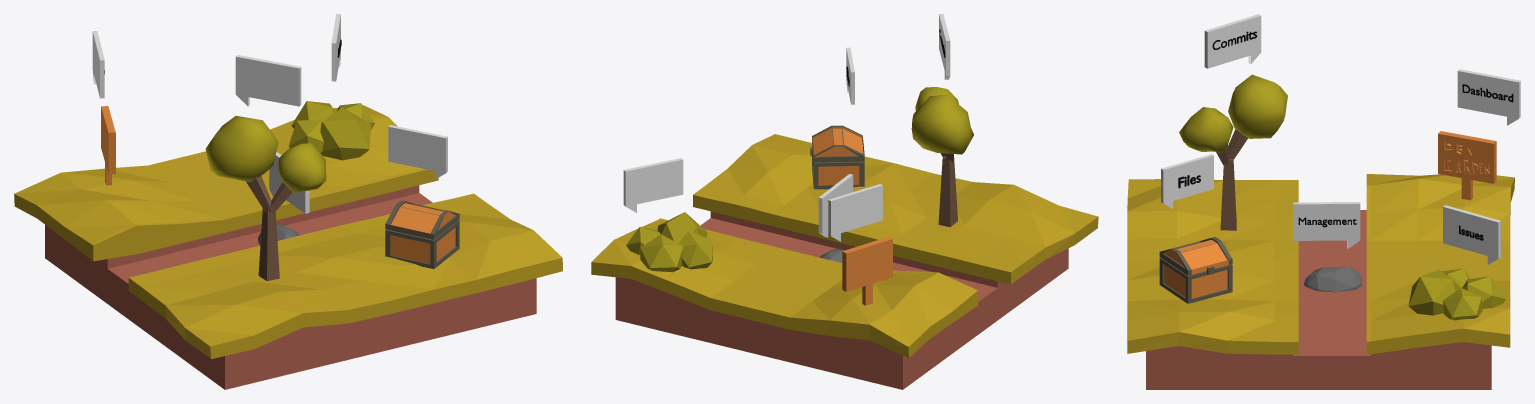
Rendered from terrain2.glb.
3 renders of one model, left to right at view 1: azimuth 30°, elevation 25°; view 2: azimuth 150°, elevation 25°; view 3: azimuth 270°, elevation 25°, orthographic. The views are drawn at different scales.
Visible parts, largest first — view 1: GrassObject, TerrainObject, FeuillageObject, Chest, Icosphere.008_0, SpeechArbre, SpeechChest, TroncObject, PlaqueObject, SpeechRock, SpeechPlaque, SpeechArbustre; view 2: GrassObject, TerrainObject, Icosphere.008_0, FeuillageObject, Chest, SpeechArbustre, PlaqueObject, SpeechPlaque, TroncObject, SpeechRock, SpeechArbre; view 3: GrassObject, TerrainObject, FeuillageObject, Chest, Icosphere.008_0, SpeechRock, PlaqueObject, SpeechPlaque, SpeechArbustre, SpeechArbre, SpeechChest, TroncObject (+1 smaller).
Part boxes in pixels (x1,y1,x2,y2): GrassObject: (14,105,562,359); TerrainObject: (45,185,536,389); FeuillageObject: (205,116,326,193); Chest: (385,200,459,268); Icosphere.008_0: (288,101,374,160); SpeechArbre: (235,55,301,106); SpeechChest: (388,125,447,179); TroncObject: (246,176,292,281); PlaqueObject: (101,106,115,174); SpeechRock: (269,152,309,213); SpeechPlaque: (92,31,104,98); SpeechArbustre: (331,14,340,81); GrassObject: (591,134,1098,357); TerrainObject: (615,211,1068,389); Icosphere.008_0: (626,212,712,272); FeuillageObject: (911,87,973,154); Chest: (810,125,864,189); SpeechArbustre: (623,158,683,212); PlaqueObject: (842,236,892,291); SpeechPlaque: (828,184,882,241); TroncObject: (938,153,957,227); SpeechRock: (818,174,853,237); SpeechArbre: (939,14,950,79); GrassObject: (1127,174,1514,354); TerrainObject: (1146,210,1491,389); FeuillageObject: (1179,74,1287,153); Chest: (1159,237,1232,303); Icosphere.008_0: (1408,268,1505,320); SpeechRock: (1293,202,1360,249); PlaqueObject: (1438,131,1496,183); SpeechPlaque: (1457,69,1520,125); SpeechArbustre: (1443,205,1500,264); SpeechArbre: (1204,14,1261,68); SpeechChest: (1161,154,1213,208); TroncObject: (1216,129,1247,230).
Bounding box in the file's own units: 13.56 × 10.06 × 13.66.
